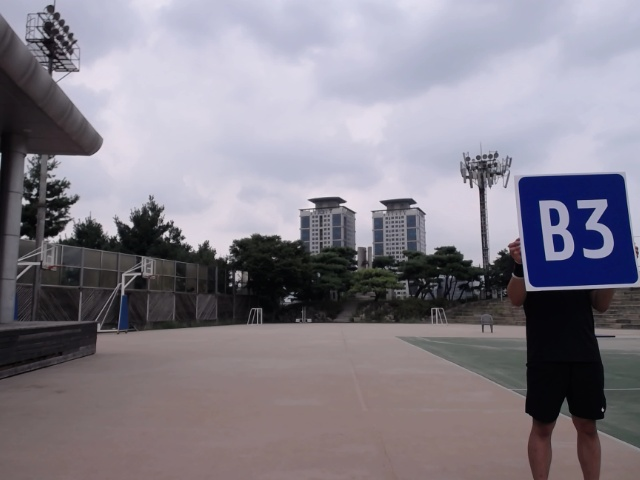delivery_b3: (517, 170, 638, 290)
